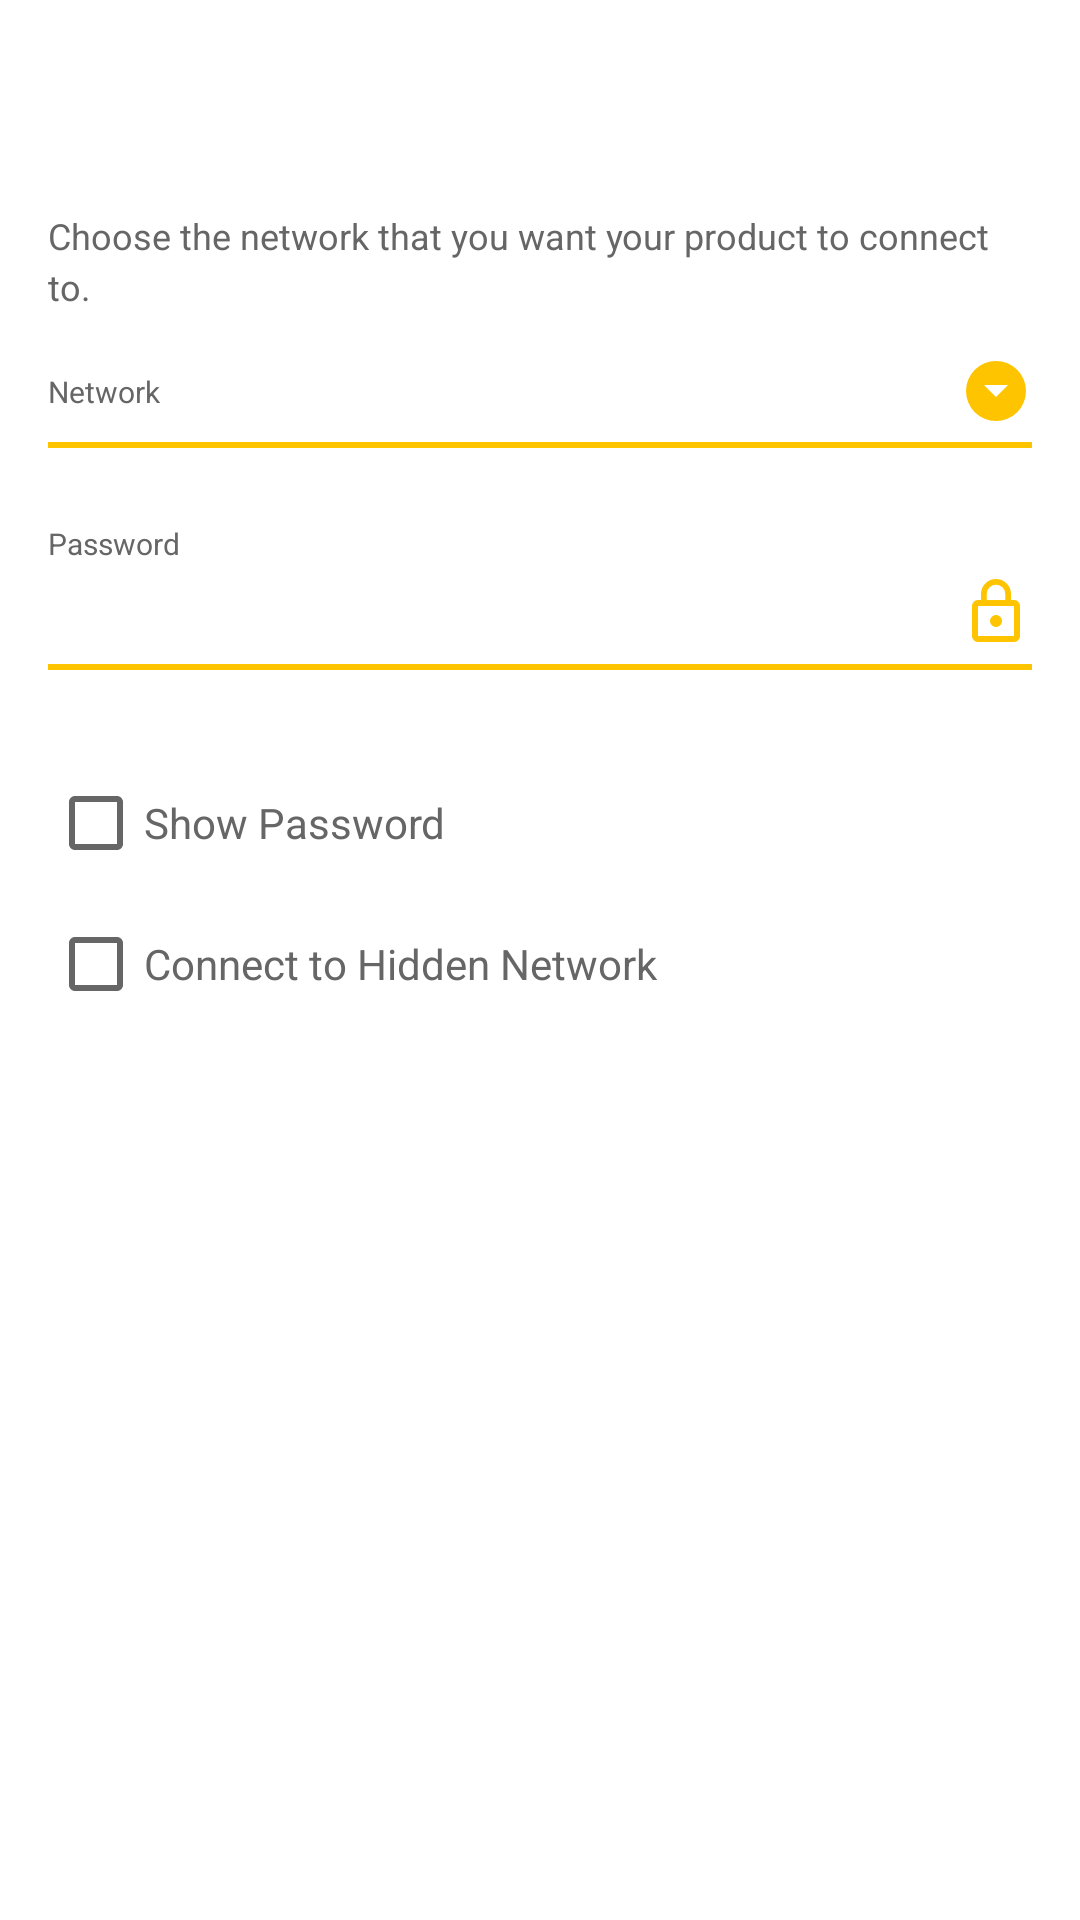

Icon click points for this 1080x1920 phone screenshot, format [x,y]:
dropdown: [996,391]
